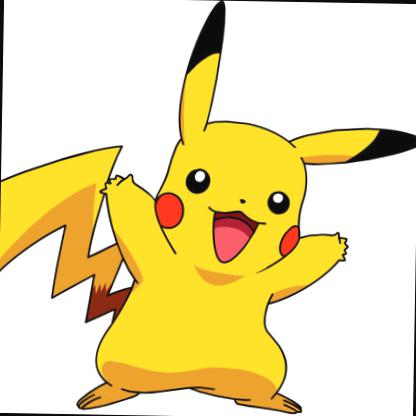Pikachu: (17, 0, 415, 415)
